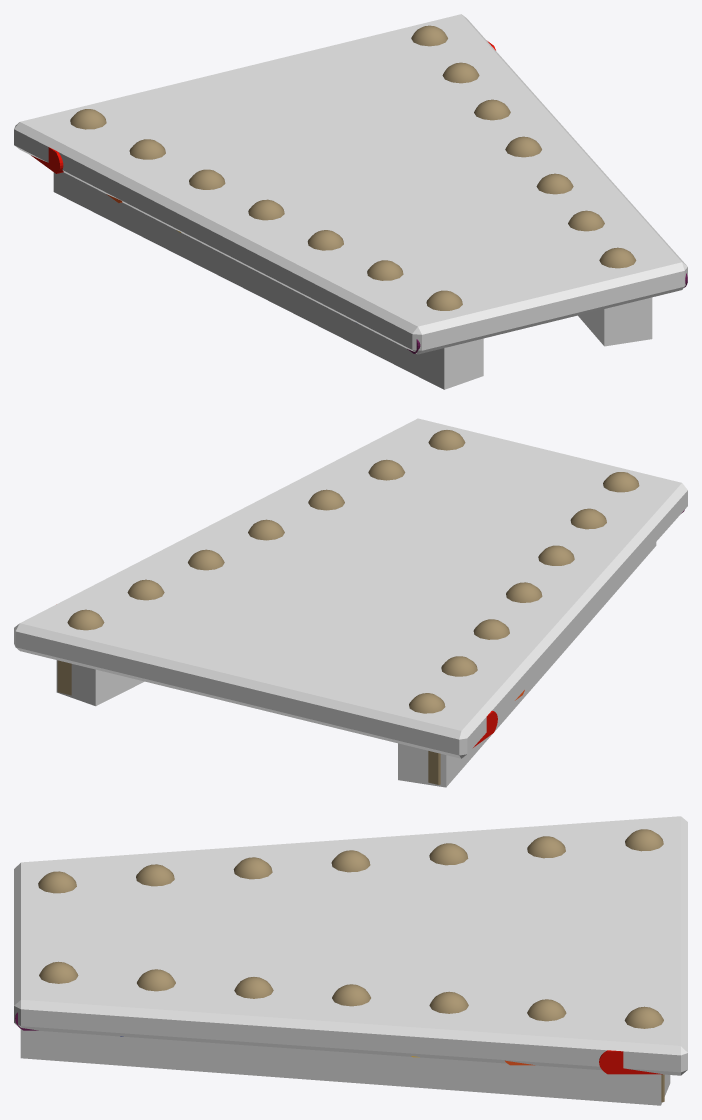
The model's file is Xylophone.fbx.
3 renders of one model, top to bottom at view 1: azimuth 30°, elevation 25°; view 2: azimuth 150°, elevation 25°; view 3: azimuth 270°, elevation 25°, orthographic. The views are drawn at different scales.
Visible parts, largest first — view 1: Xcoll 1, Xcoll 3, Xylophone, Xcoll 2; view 2: Xcoll 1, Xylophone, Xcoll 3, Xcoll 2; view 3: Xcoll 1, Xcoll 2, Xylophone.
Boxes of the visible parts, x1,y1,x2,y2 form: Xcoll 1: [14, 14, 687, 354]; Xcoll 3: [53, 172, 483, 389]; Xylophone: [31, 25, 687, 353]; Xcoll 2: [578, 297, 652, 346]; Xcoll 1: [14, 418, 687, 758]; Xylophone: [57, 430, 684, 784]; Xcoll 3: [398, 542, 656, 787]; Xcoll 2: [56, 660, 144, 706]; Xcoll 1: [14, 816, 687, 1075]; Xcoll 2: [20, 1029, 670, 1105]; Xylophone: [15, 829, 664, 1102].
Size of the model in its own units: 415 by 70.39 by 501.
